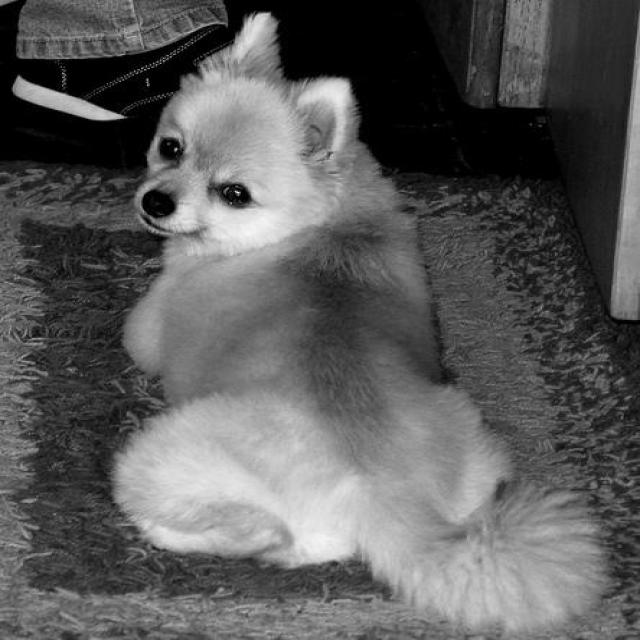laying down: (100, 9, 620, 633)
